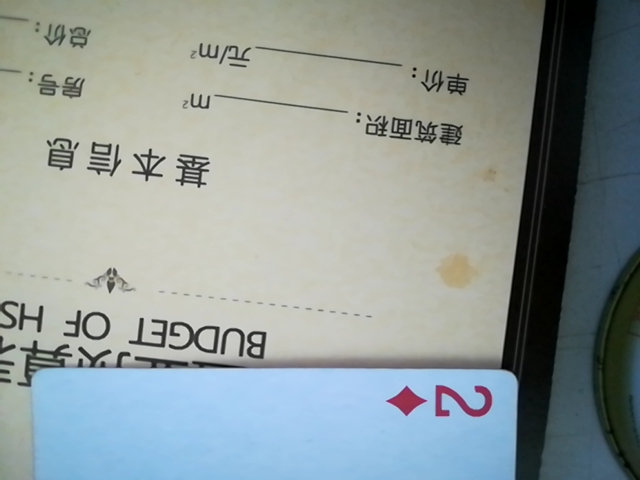fk 2: (29, 353, 536, 479)
